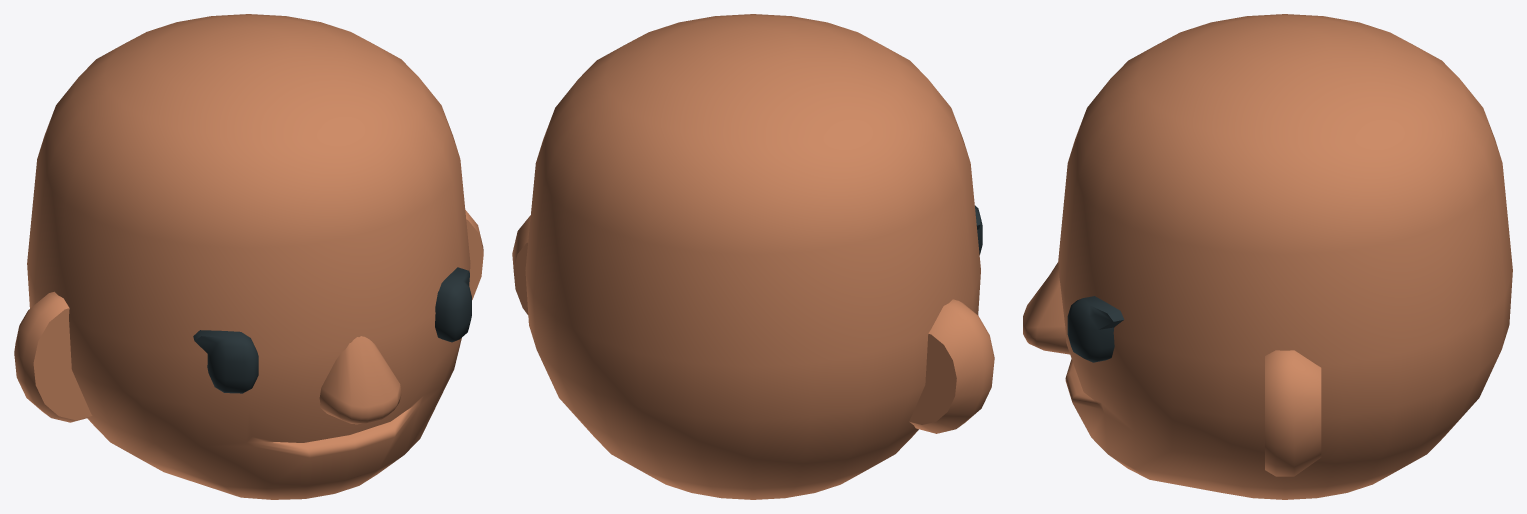
The model's file is rogueHeadB.fbx.
The picture shows the model from 3 angles, left to right: view 1: azimuth 30°, elevation 25°; view 2: azimuth 150°, elevation 25°; view 3: azimuth 270°, elevation 25°; orthographic projection. The views are drawn at different scales.
Parts seen in each view (by area): view 1: rogueHeadB; view 2: rogueHeadB; view 3: rogueHeadB.
Boxes of the visible parts, box(x1,y1,x2,y2) form: rogueHeadB: box(14, 14, 483, 499); rogueHeadB: box(512, 14, 994, 499); rogueHeadB: box(1023, 14, 1512, 499).
Size of the model in its own units: 1.18 by 0.9703 by 1.05.
